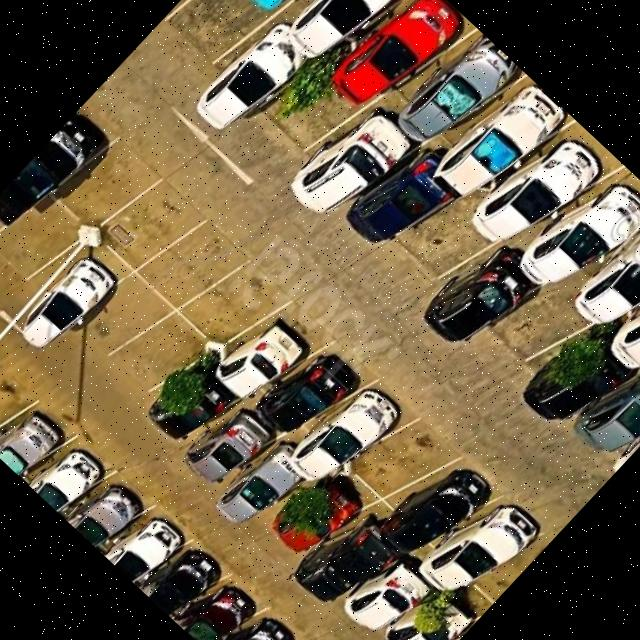Car: (323, 0, 470, 129), (472, 126, 604, 262), (289, 98, 416, 228), (438, 76, 564, 207), (422, 236, 548, 364), (397, 32, 522, 160), (524, 173, 640, 308), (0, 116, 113, 252), (424, 490, 544, 612), (7, 248, 126, 370), (193, 26, 311, 146), (516, 324, 632, 442), (288, 376, 400, 490), (130, 354, 242, 466), (345, 148, 455, 260), (384, 454, 493, 565), (172, 402, 278, 510), (260, 341, 364, 448), (296, 512, 398, 614), (202, 447, 302, 550), (278, 0, 417, 74), (97, 498, 197, 598), (214, 310, 312, 410), (138, 532, 234, 630), (576, 210, 640, 346), (62, 465, 155, 558), (27, 432, 118, 524), (563, 371, 640, 478), (270, 472, 360, 563), (341, 552, 432, 640), (171, 565, 271, 640), (0, 396, 81, 488), (235, 0, 374, 31), (207, 598, 303, 640), (392, 592, 469, 640), (604, 399, 640, 479), (422, 610, 482, 640)
Free: (88, 162, 222, 296), (166, 246, 298, 380), (124, 202, 256, 334), (98, 294, 226, 424), (467, 269, 593, 396), (343, 407, 465, 529), (50, 131, 164, 246), (76, 262, 188, 376), (0, 181, 103, 304), (382, 201, 492, 311), (250, 70, 354, 174), (153, 0, 274, 87), (472, 530, 546, 608), (0, 349, 45, 453)
